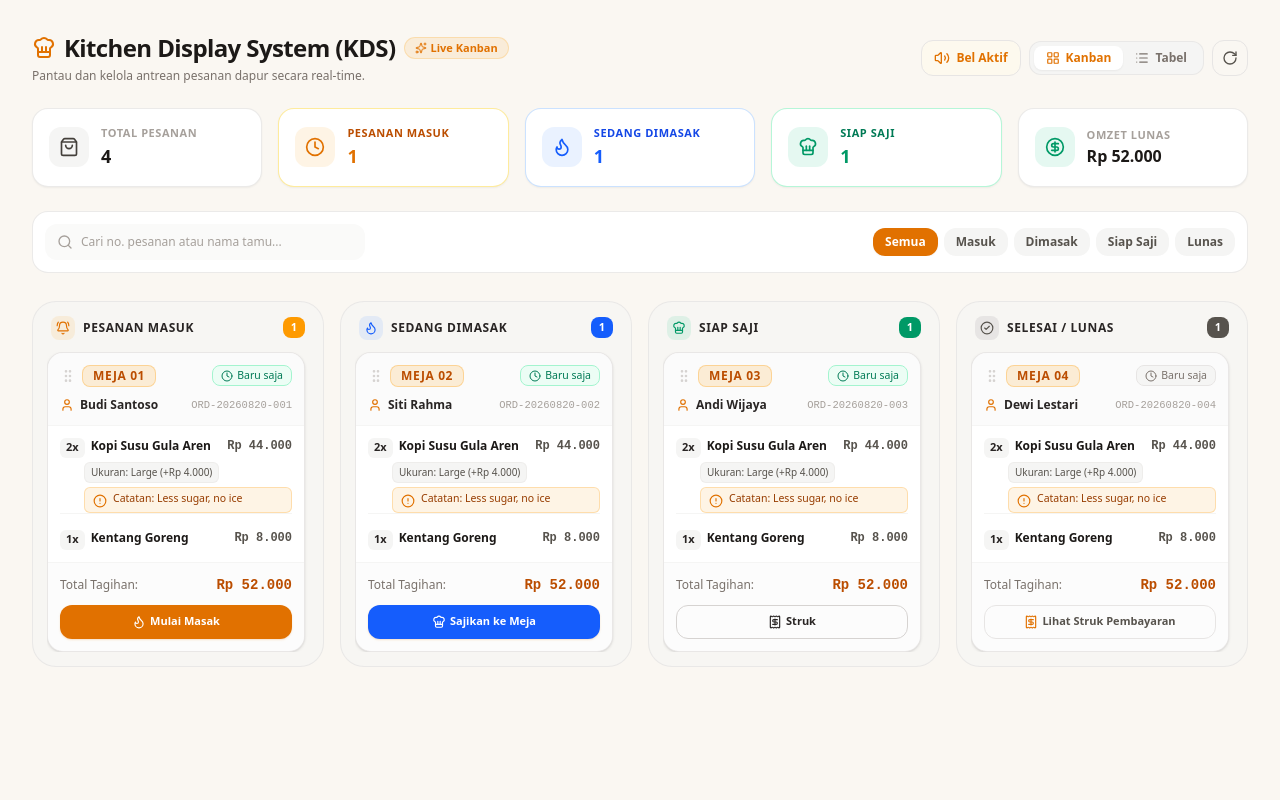
Test: Order Components › OrdersView (Master Kanban & Table Controller) › switches to Table audit view and renders table rows with receipt trigger
This screenshot has width=1280, height=800.
Click the button "Tabel": x=1161, y=58 [1123, 46, 1199, 70]
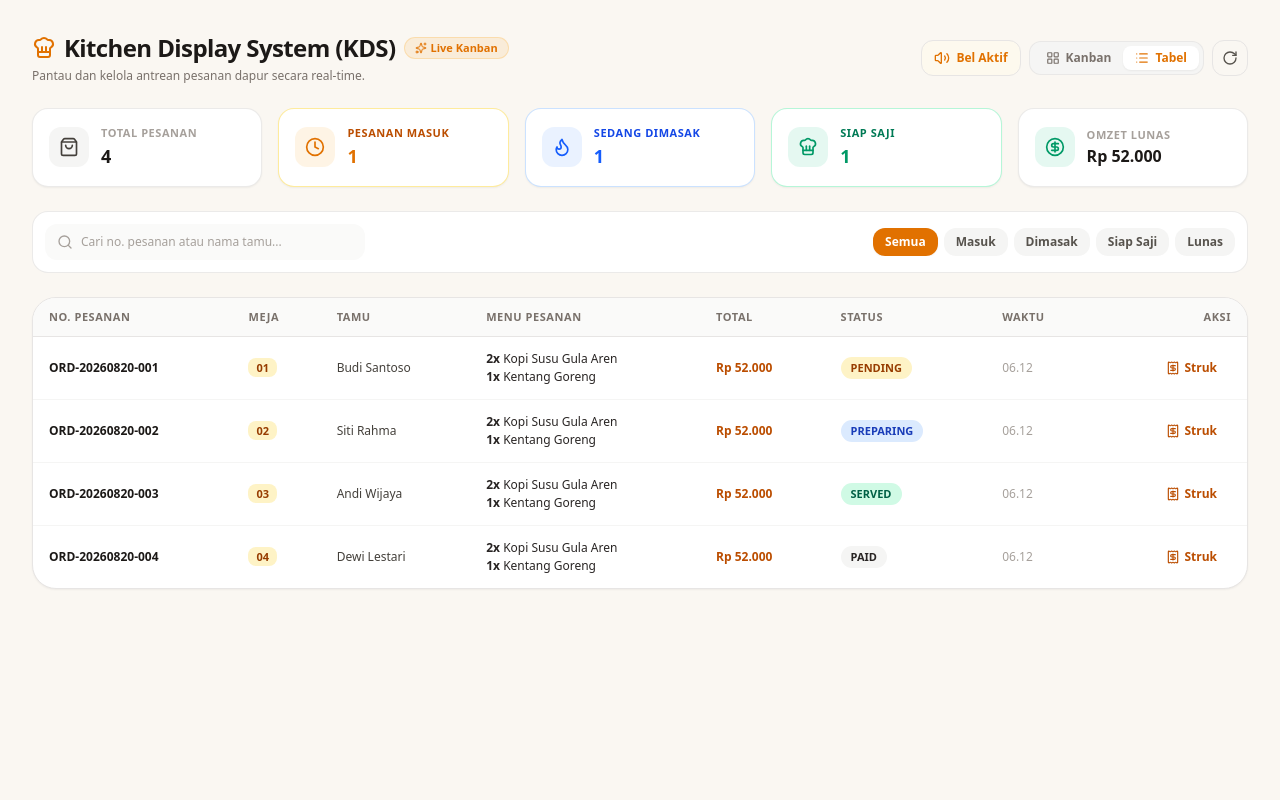
Check: the text "ORD-20260820-001" is shown, box [33, 337, 232, 400]
Check: the column heading "No. Pesanan" is shown, box [33, 298, 232, 337]
Open receipt from table view
Click the button "Struk" in the row of "ORD-20260820-001": x=1192, y=368 [1152, 354, 1231, 382]
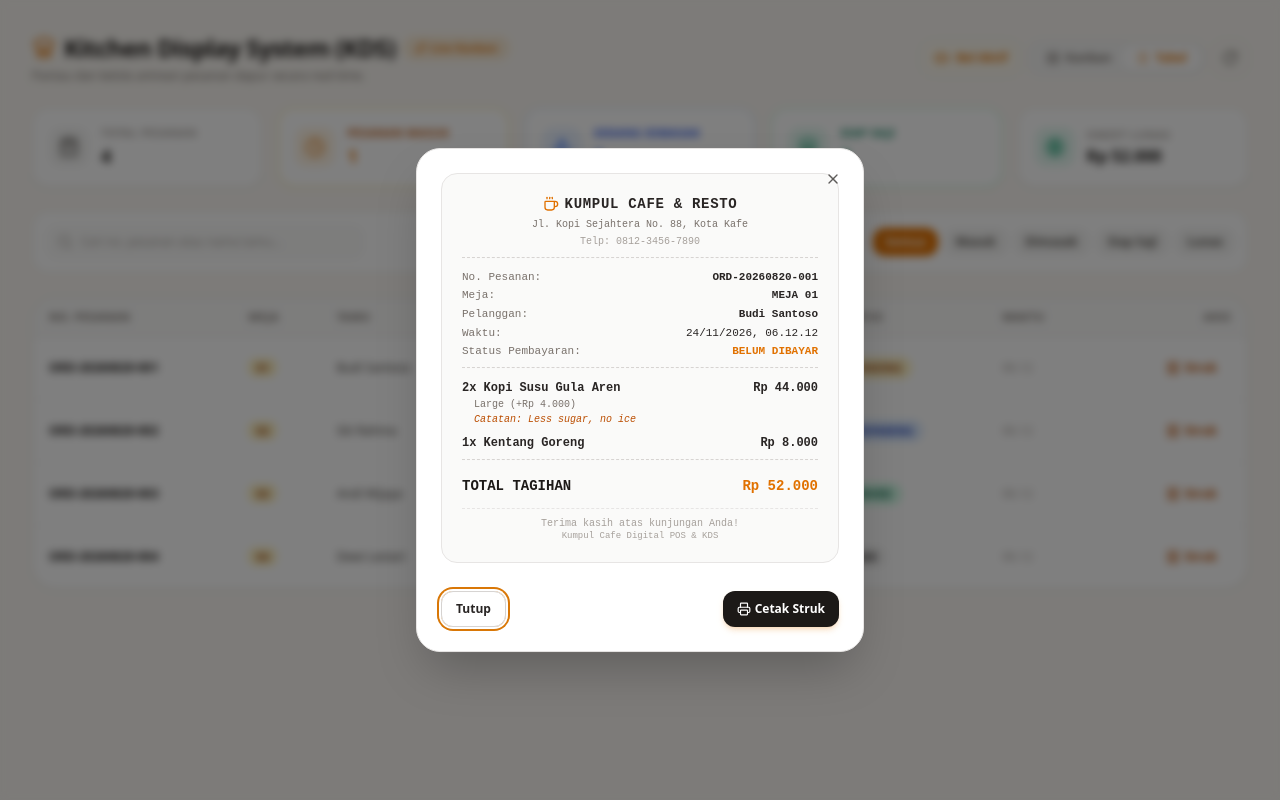
Check: the text "KUMPUL CAFE & RESTO" is shown, box [564, 194, 737, 214]
